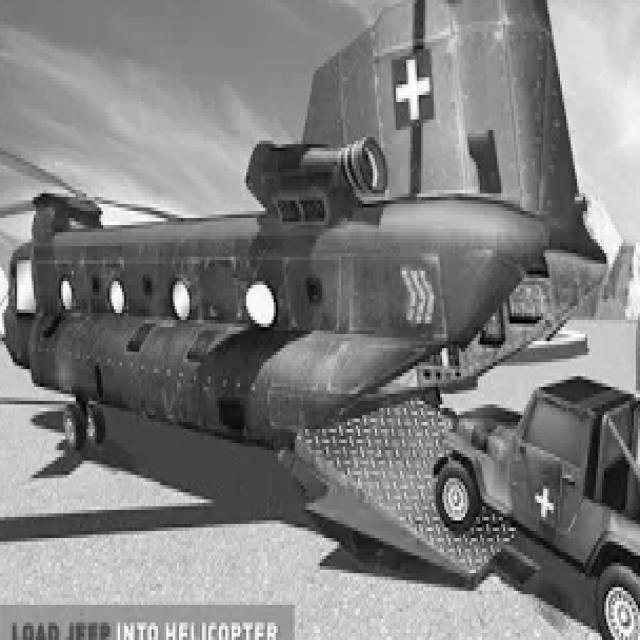helicopter: (1, 1, 586, 606)
